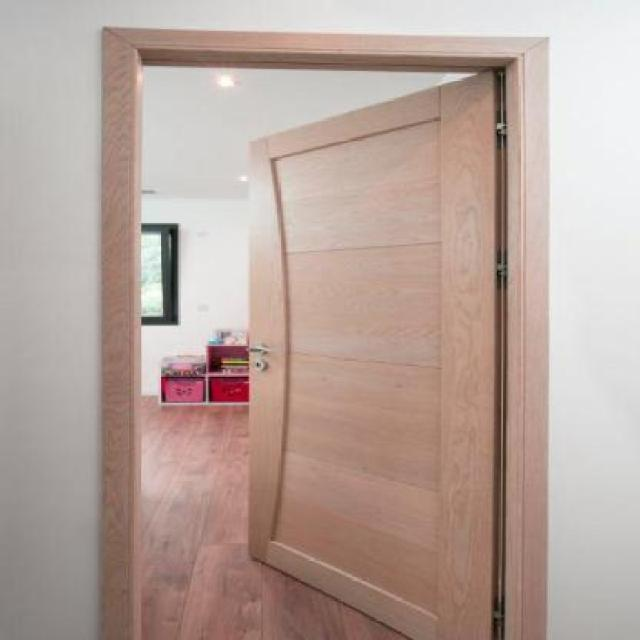door_handle: (246, 341, 277, 361)
